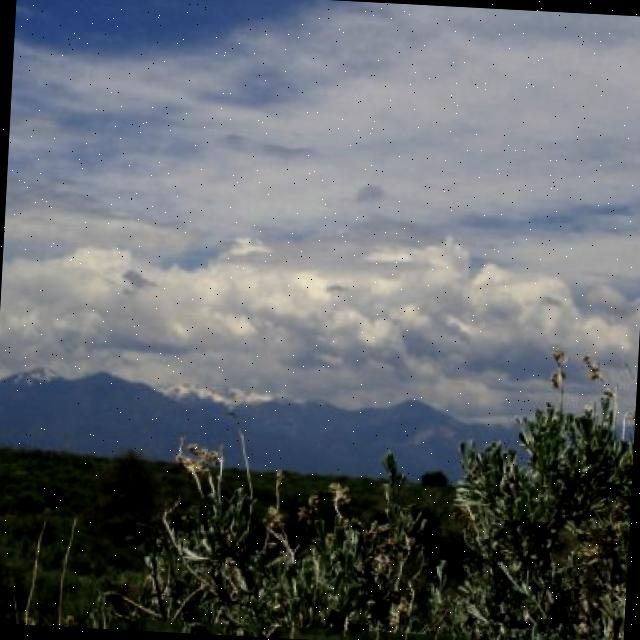Cs: (1, 57, 640, 382)
